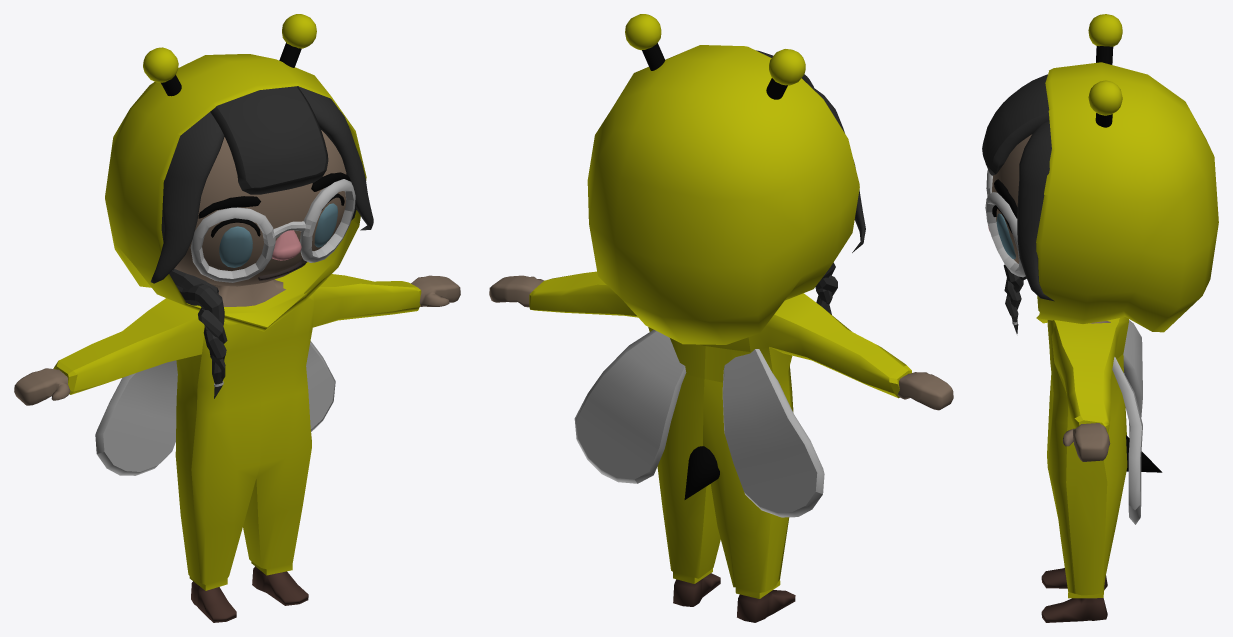
The model's file is FestiaHest.fbx.
3 views of the same model, side by side, from view 1: azimuth 30°, elevation 25°; view 2: azimuth 150°, elevation 25°; view 3: azimuth 270°, elevation 25° (orthographic). The views are drawn at different scales.
Parts seen in each view (by area): view 1: mod_festiahest; view 2: mod_festiahest; view 3: mod_festiahest.
Boxes of the visible parts, x1,y1,x2,y2 form: mod_festiahest: [14, 14, 460, 622]; mod_festiahest: [489, 14, 953, 622]; mod_festiahest: [982, 14, 1218, 622].
Size of the model in its own units: 1.34 by 1.63 by 0.6353.
